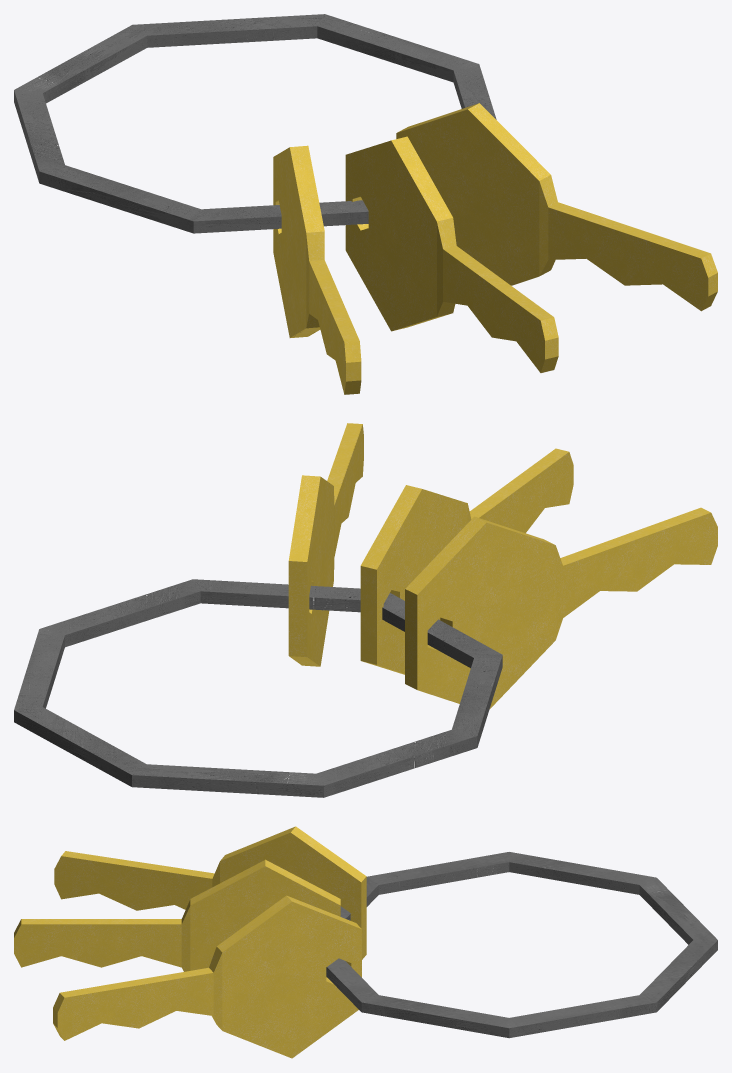
The model's file is keys.fbx.
3 views of the same model, one above another, from view 1: azimuth 30°, elevation 25°; view 2: azimuth 150°, elevation 25°; view 3: azimuth 270°, elevation 25° (orthographic). The views are drawn at different scales.
Parts seen in each view (by area): view 1: keys, chain; view 2: keys, chain; view 3: keys, chain.
Boxes of the visible parts, x1,y1,x2,y2 form: keys: (273,103,717,394); chain: (14,14,496,233); keys: (288,423,717,708); chain: (14,579,502,797); keys: (14,826,366,1058); chain: (326,852,717,1038).
Size of the model in its own units: 49.59 by 20.57 by 83.6.
